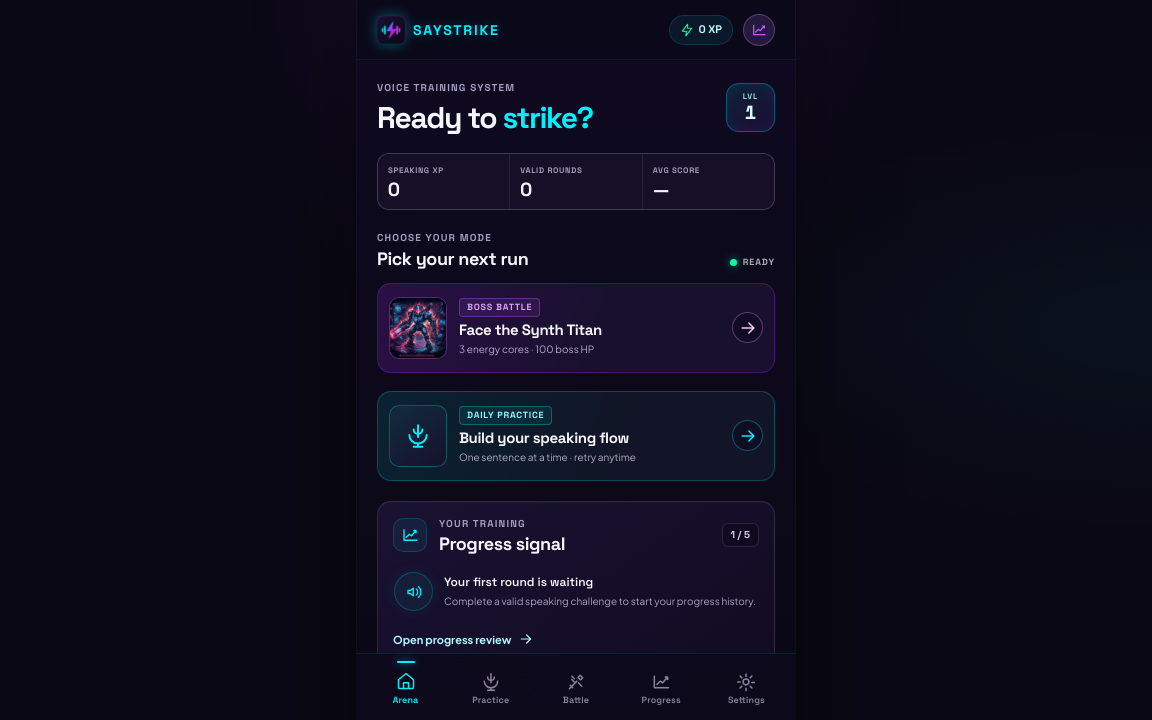
it: SayStrike app shell and microphone recovery › renders the arena navigation and opens a live practice challenge
Check: the heading "Ready to strike?" is shown, box x1=377 y1=101 x2=593 y2=135
What coordinates should you click on to do the following:
click the button "Build your speaking flow"
I would click on:
 (576, 436)
Its box is x1=377 y1=391 x2=775 y2=481.
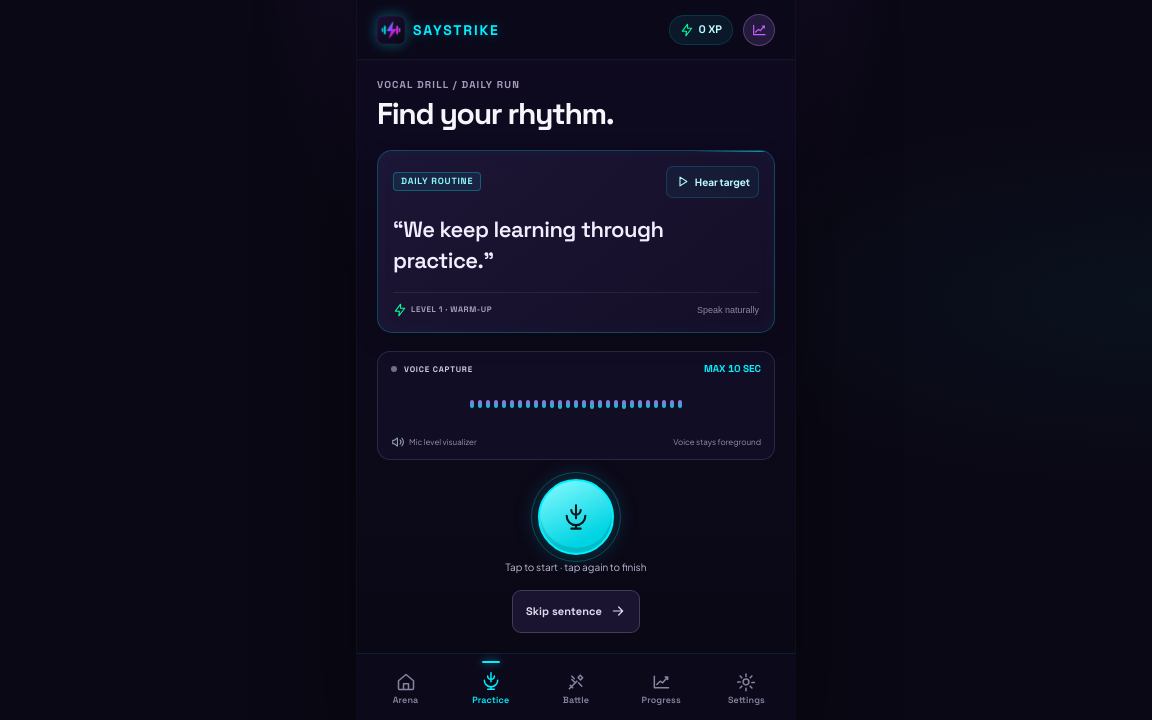
Check: the navigation bar named "main navigation" is shown, box x1=356 y1=653 x2=796 y2=719
Check: the heading "Find your rhythm." is shown, box x1=377 y1=97 x2=613 y2=131
Check: the text "“We keep learning through practice.”" is shown, box x1=393 y1=215 x2=664 y2=274
